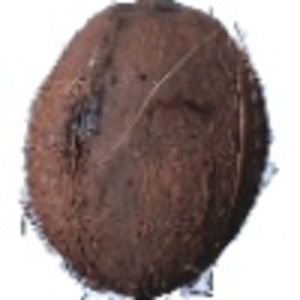coco: (19, 1, 277, 300)
